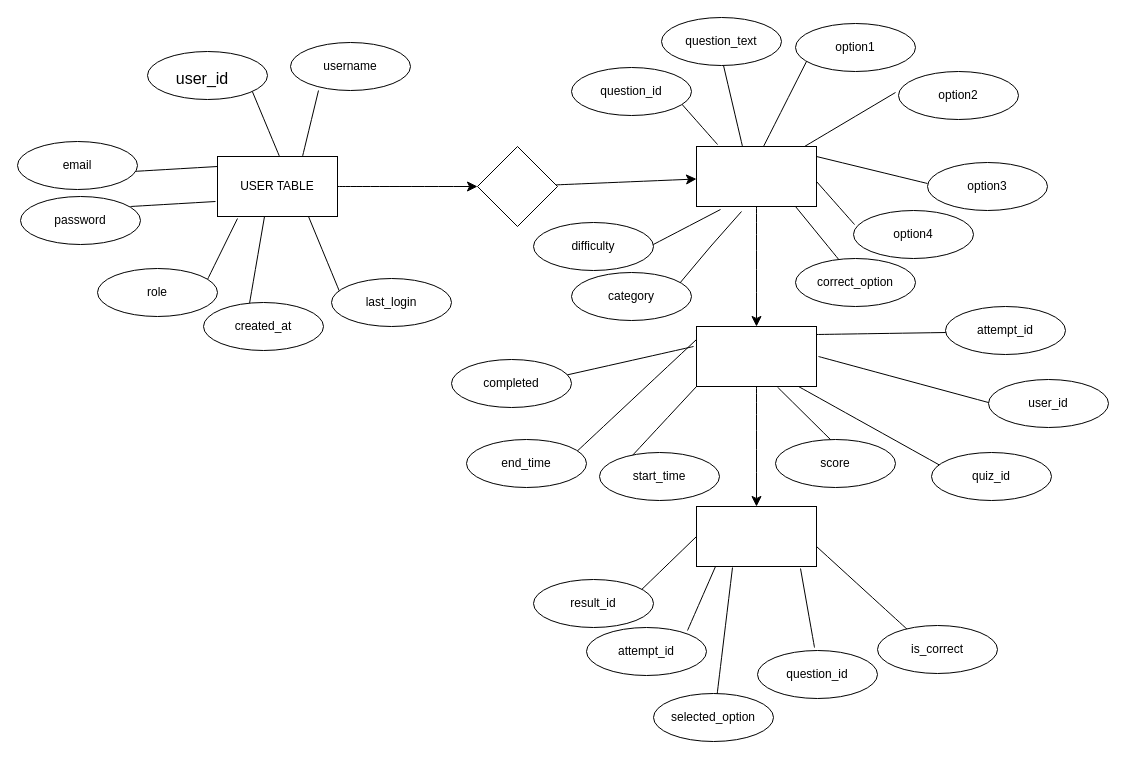
Some shapes in this 1126 by 759 pixel diagram are drawn without their labels. Each missing label, with the box of its shape:
login: (476, 146, 558, 226)
question table: (696, 146, 816, 206)
Quiz_attempt_ table: (696, 326, 816, 386)
Quiz_result table: (696, 506, 816, 566)
